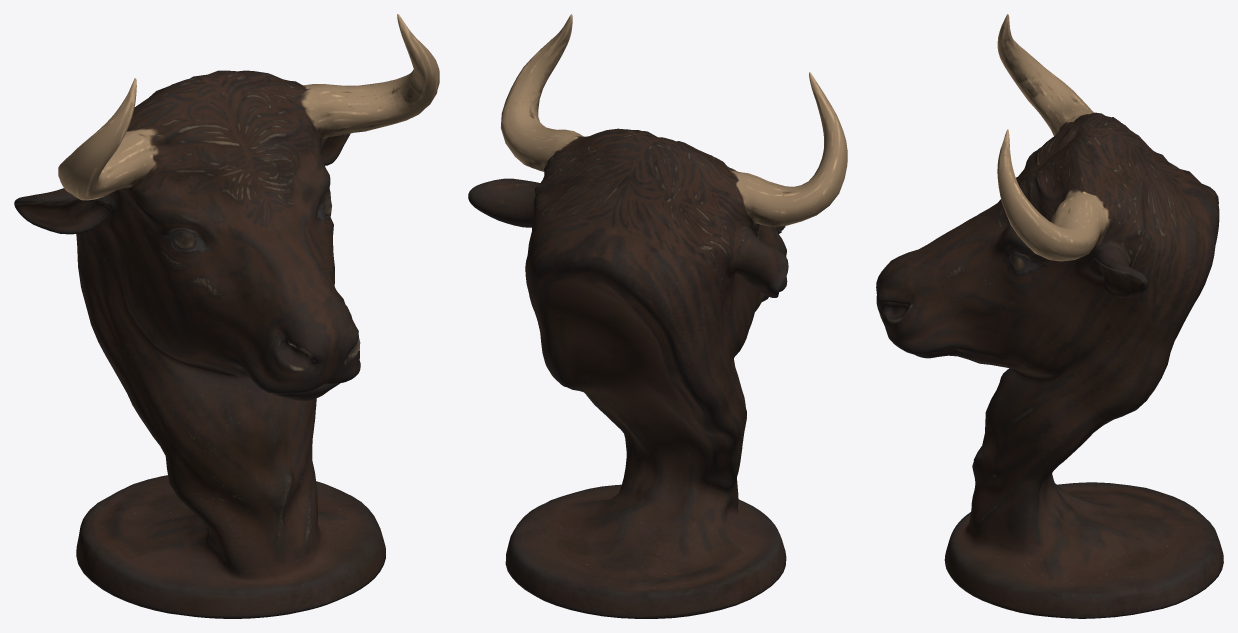
File: bull_head.glb
3 renders of one model, left to right at view 1: azimuth 30°, elevation 25°; view 2: azimuth 150°, elevation 25°; view 3: azimuth 270°, elevation 25°, orthographic. The views are drawn at different scales.
Visible parts, largest first — view 1: bull_head; view 2: bull_head; view 3: bull_head.
Boxes of the visible parts, <box> form: bull_head: <box>14,14,439,618</box>; bull_head: <box>468,14,847,618</box>; bull_head: <box>876,14,1223,618</box>.
Size of the model in its own units: 0.3064 by 0.433 by 0.2807.
1 material, 1 textured.
